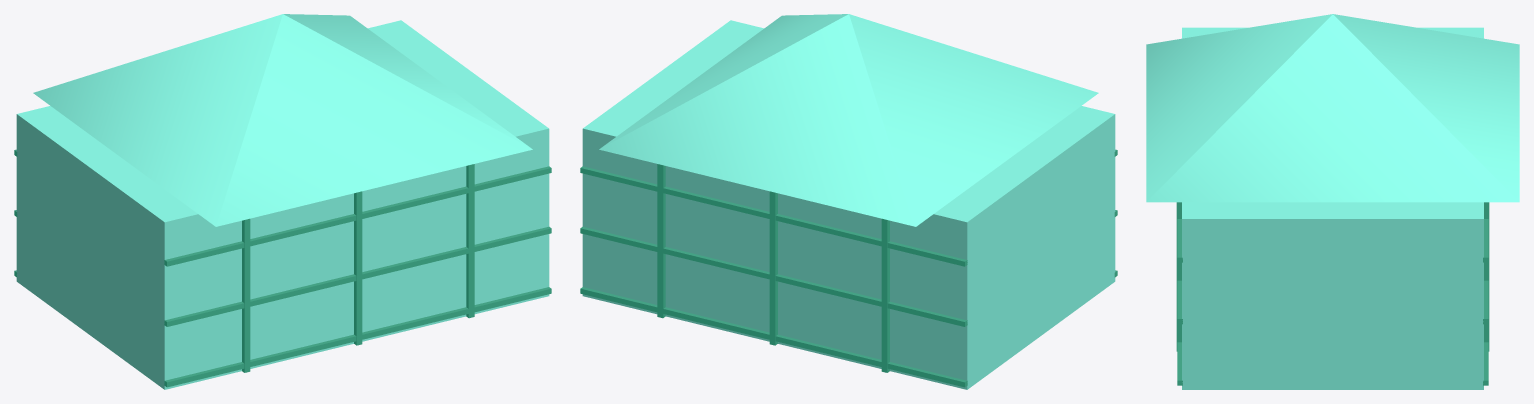
The model's file is greenhouse.glb.
3 renders of one model, left to right at view 1: azimuth 30°, elevation 25°; view 2: azimuth 150°, elevation 25°; view 3: azimuth 270°, elevation 25°, orthographic.
Visible parts, largest first — view 1: Greenhouse; view 2: Greenhouse; view 3: Greenhouse.
Part boxes in pixels (left/top/right/bottom): Greenhouse: left=14, top=14, right=551, bottom=389; Greenhouse: left=580, top=14, right=1117, bottom=389; Greenhouse: left=1146, top=14, right=1519, bottom=389.
Size of the model in its own units: 12 by 8.2 by 9.9.
